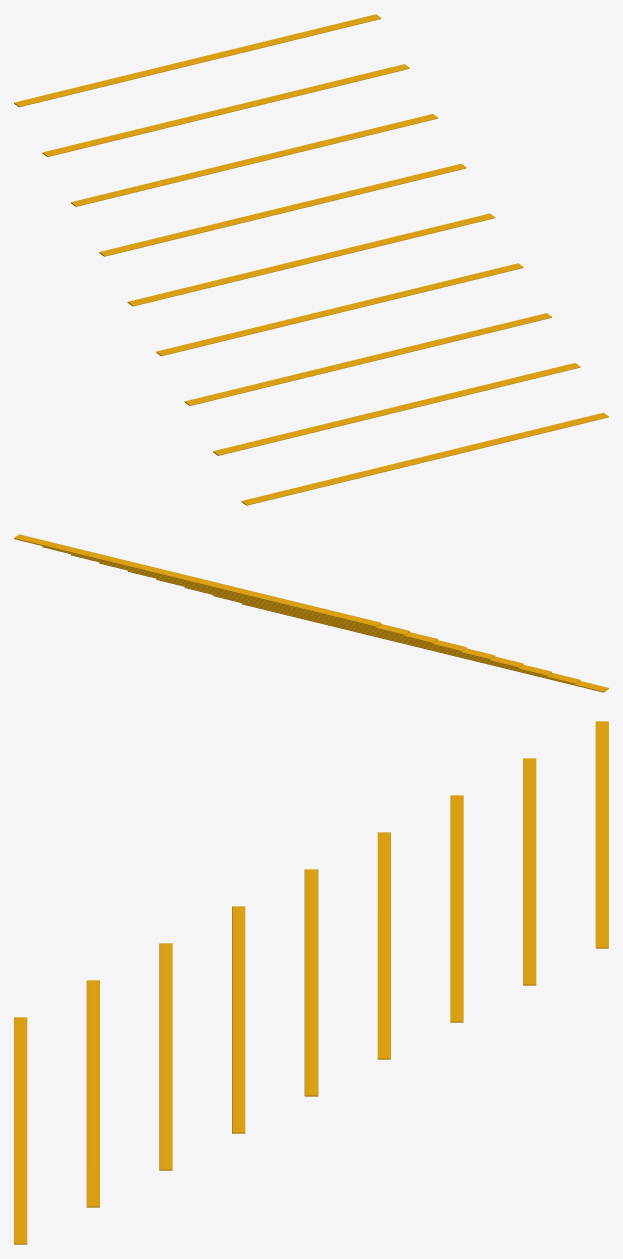
Rendered from gteki_ik_stair_n9_r168_t299_w2215_nosing.glb.
3 renders of one model, top to bottom at view 1: azimuth 30°, elevation 25°; view 2: azimuth 150°, elevation 25°; view 3: azimuth 270°, elevation 25°, orthographic. The views are drawn at different scales.
Visible parts, largest first — view 1: VIS_nosings; view 2: VIS_nosings; view 3: VIS_nosings.
Part boxes in pixels (left/top/right/bottom): VIS_nosings: left=14, top=14, right=608, bottom=505; VIS_nosings: left=14, top=534, right=608, bottom=692; VIS_nosings: left=14, top=721, right=608, bottom=1244.
Bounding box in the file's own units: 2.2 × 1.35 × 2.45.
